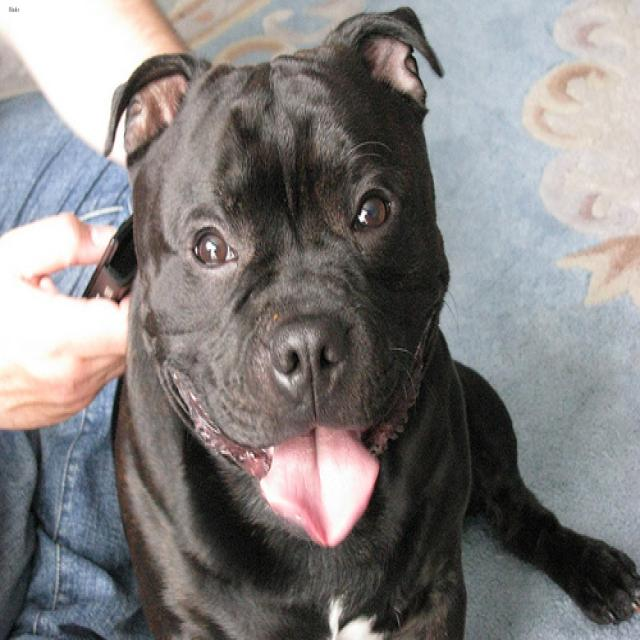dog-staffordshire_bull_terrier: (93, 2, 637, 637)
